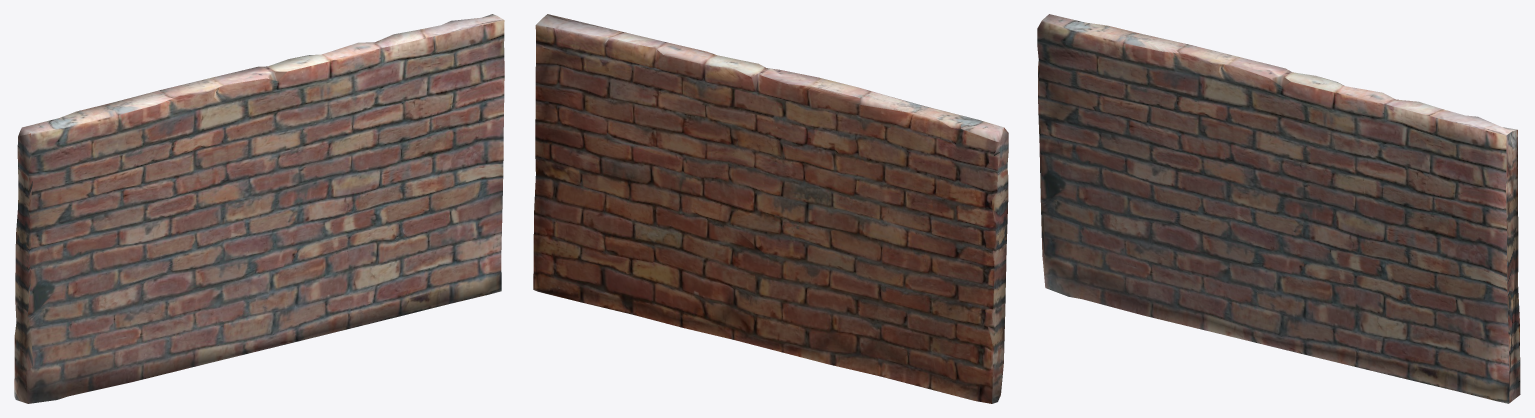
Rendered from KiegeluSIenaPanks.fbx.
The picture shows the model from 3 angles, left to right: view 1: azimuth 30°, elevation 25°; view 2: azimuth 150°, elevation 25°; view 3: azimuth 330°, elevation 25°; orthographic projection. The views are drawn at different scales.
Parts seen in each view (by area): view 1: Retopo_3DModel_mesh; view 2: Retopo_3DModel_mesh; view 3: Retopo_3DModel_mesh.
Part boxes in pixels (left/top/right/bottom): Retopo_3DModel_mesh: left=14, top=14, right=504, bottom=403; Retopo_3DModel_mesh: left=533, top=14, right=1008, bottom=403; Retopo_3DModel_mesh: left=1037, top=14, right=1520, bottom=403.
Size of the model in its own units: 7.98 by 4.44 by 0.5394.
1 material, 1 textured.
